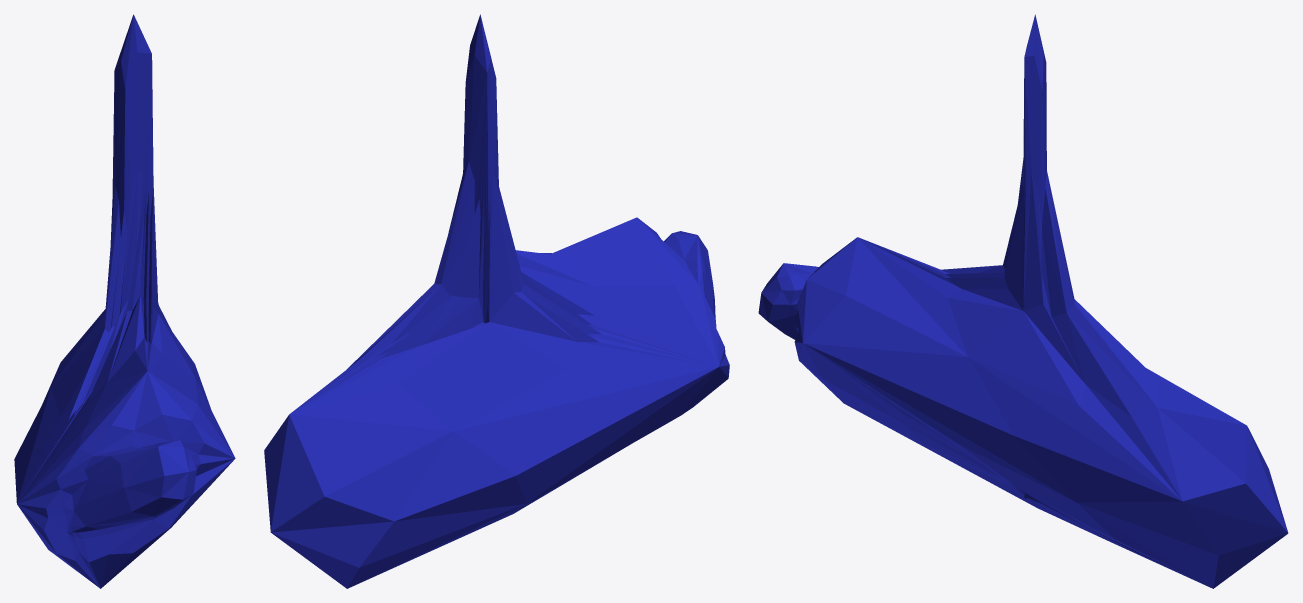
3 views of the same model, side by side, from view 1: azimuth 30°, elevation 25°; view 2: azimuth 150°, elevation 25°; view 3: azimuth 270°, elevation 25° (orthographic). The views are drawn at different scales.
Parts seen in each view (by area): view 1: 137_Cube.568; view 2: 137_Cube.568; view 3: 137_Cube.568.
Part boxes in pixels (box(x1,y1,x2,y2)): 137_Cube.568: box(14, 14, 235, 588); 137_Cube.568: box(264, 14, 729, 588); 137_Cube.568: box(758, 14, 1288, 588).
Size of the model in its own units: 8.05 by 13.47 by 11.76.
